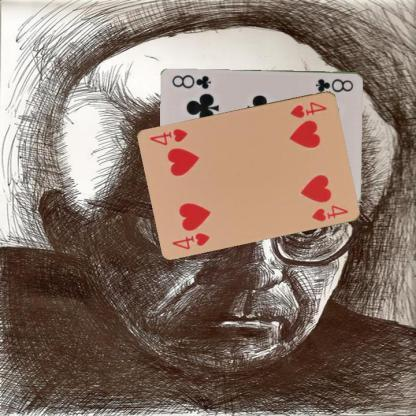4h: (170, 229, 212, 251), (288, 99, 328, 119)
8c: (313, 76, 355, 94)
